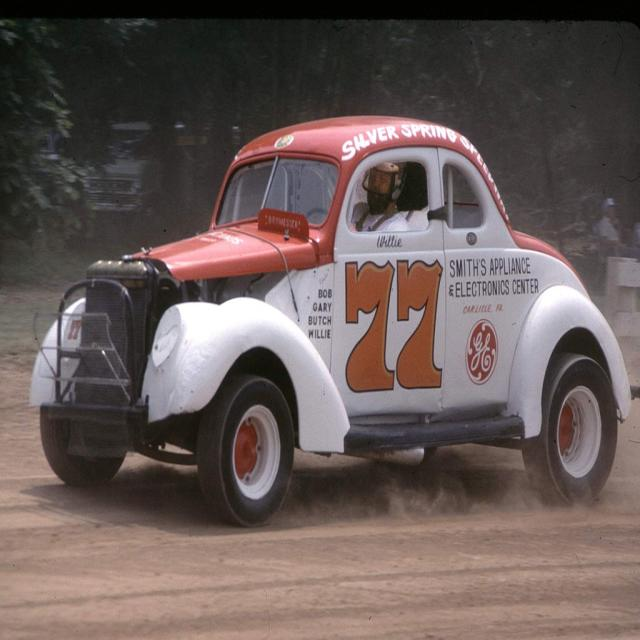car: (62, 104, 631, 535)
